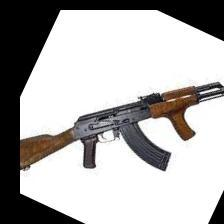larga: (20, 81, 224, 172)
